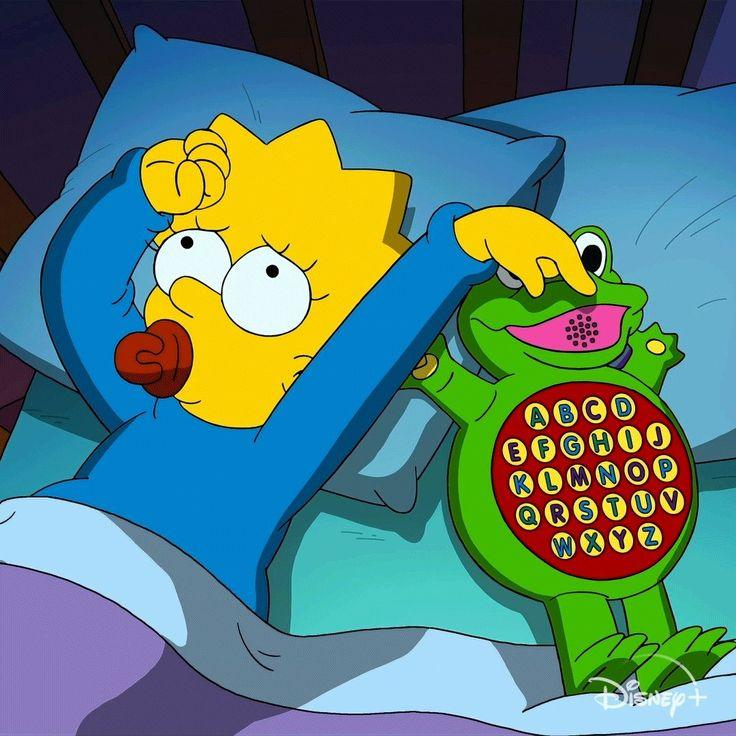Maggie: (10, 99, 606, 642)
